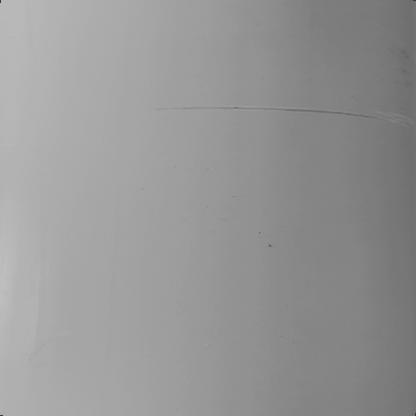sunshang: (160, 102, 416, 130)
